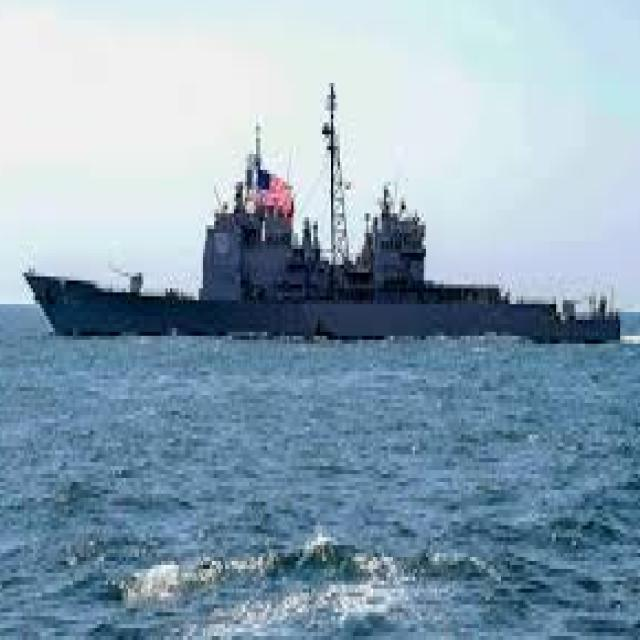navalvessels: (19, 41, 617, 365)
